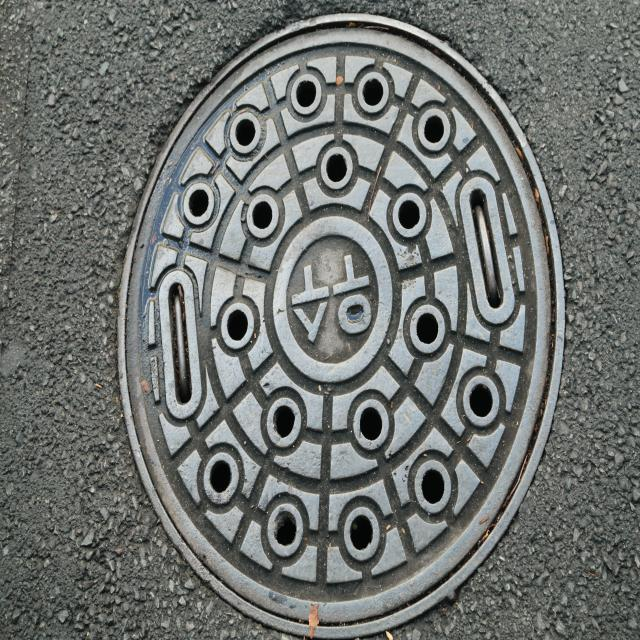manhole: (115, 14, 567, 640)
